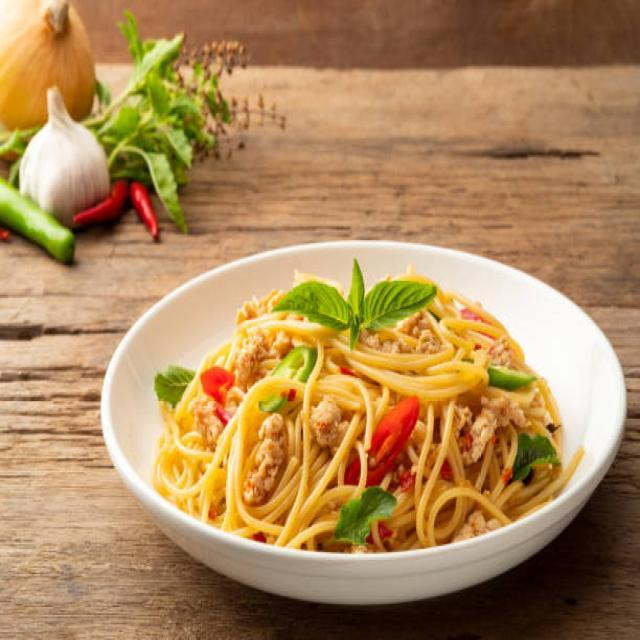cac loai rau cu: (272, 258, 435, 338), (343, 397, 418, 489), (259, 346, 315, 411), (334, 491, 397, 541), (515, 432, 560, 487), (201, 367, 231, 428), (152, 364, 194, 406), (486, 361, 535, 396)
mi ga hung que kem: (151, 259, 585, 560)
soi mi khoai lang: (154, 267, 584, 553)
thit ga: (451, 399, 528, 463), (245, 415, 285, 502), (367, 311, 435, 356), (310, 394, 341, 447), (237, 329, 264, 386), (458, 512, 503, 542), (489, 339, 511, 365)
